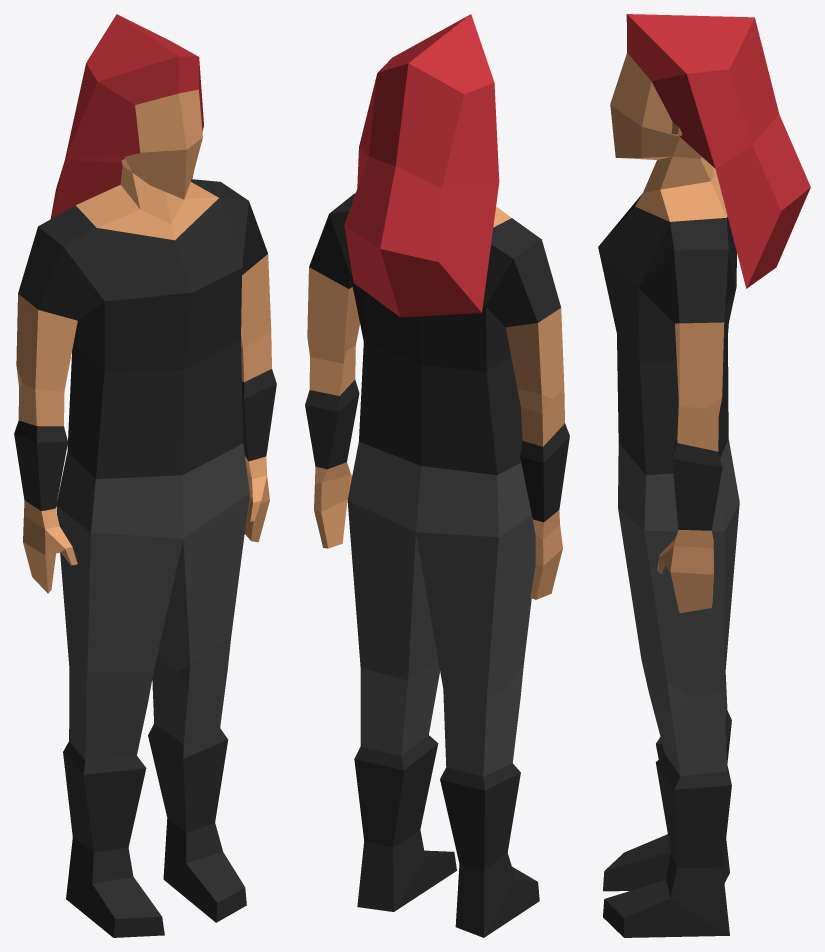
Rendered from woman-metalhead.fbx.
The picture shows the model from 3 angles, left to right: view 1: azimuth 30°, elevation 25°; view 2: azimuth 150°, elevation 25°; view 3: azimuth 270°, elevation 25°; orthographic projection. The views are drawn at different scales.
Parts seen in each view (by area): view 1: woman-metalhead; view 2: woman-metalhead; view 3: woman-metalhead.
Boxes of the visible parts, left/top/right/bottom form: woman-metalhead: left=14, top=14, right=276, bottom=937; woman-metalhead: left=305, top=14, right=569, bottom=937; woman-metalhead: left=598, top=14, right=810, bottom=937.
Bounding box in the file's own units: 0.5391 × 1.86 × 0.4019.
